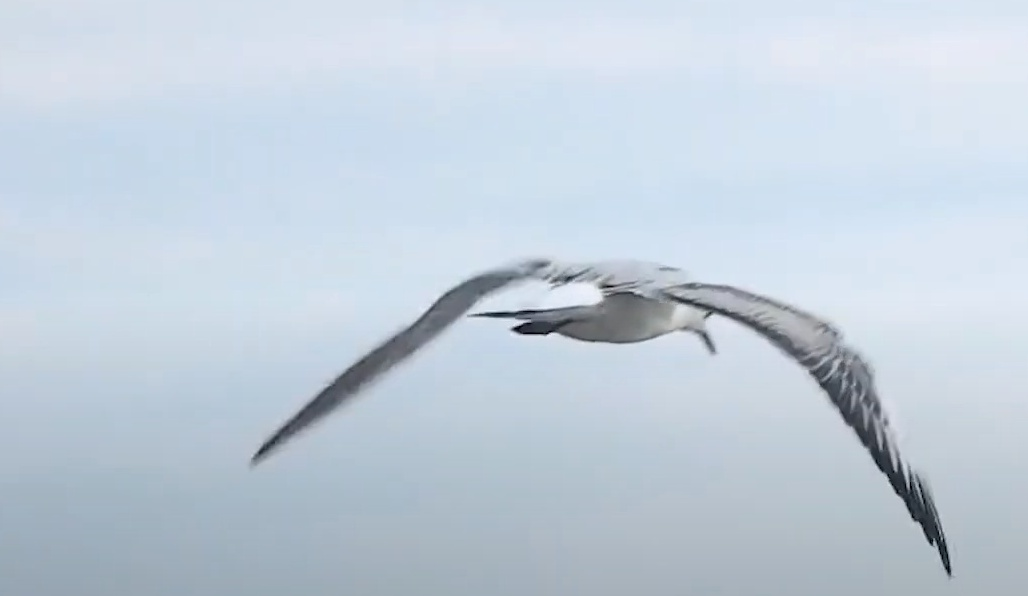bird: (248, 254, 957, 583)
